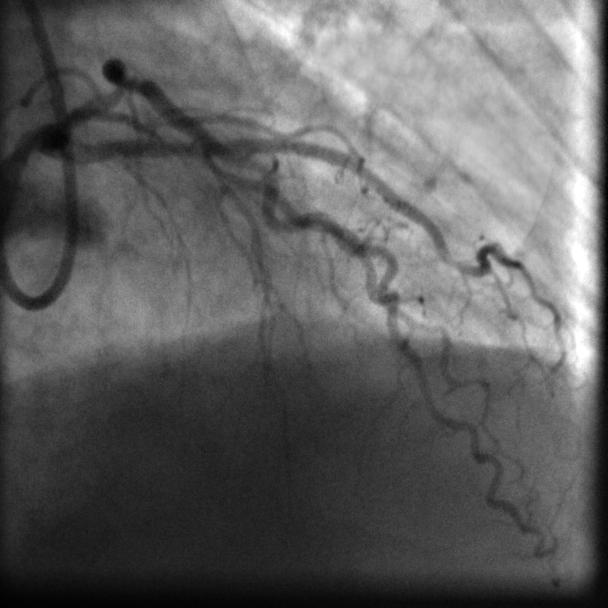Stenosis: (113, 55, 145, 105)
